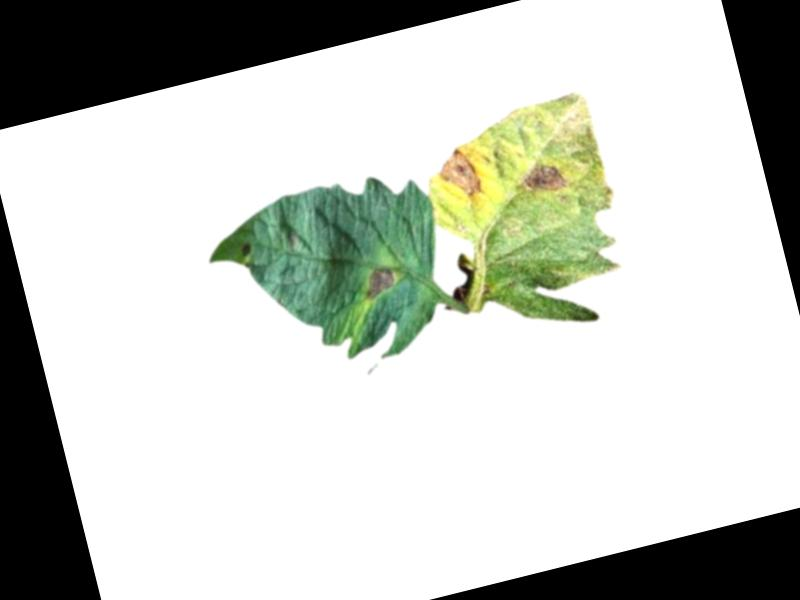Early_blight: (432, 143, 483, 204), (515, 157, 569, 199), (359, 264, 397, 298), (234, 240, 253, 257)
